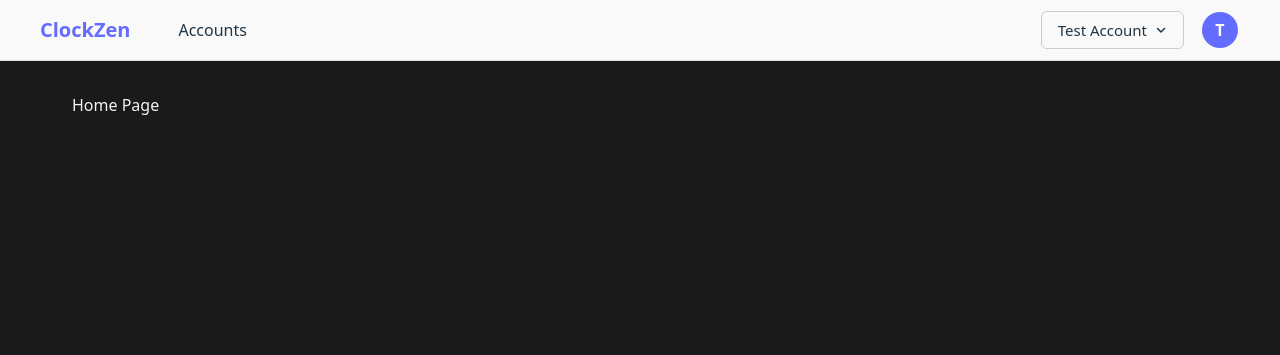
Scenario: Layout › User Menu › opens user menu on click
Click the button with class "user-menu-trigger" at (1220, 30), box [1200,10,1240,50]
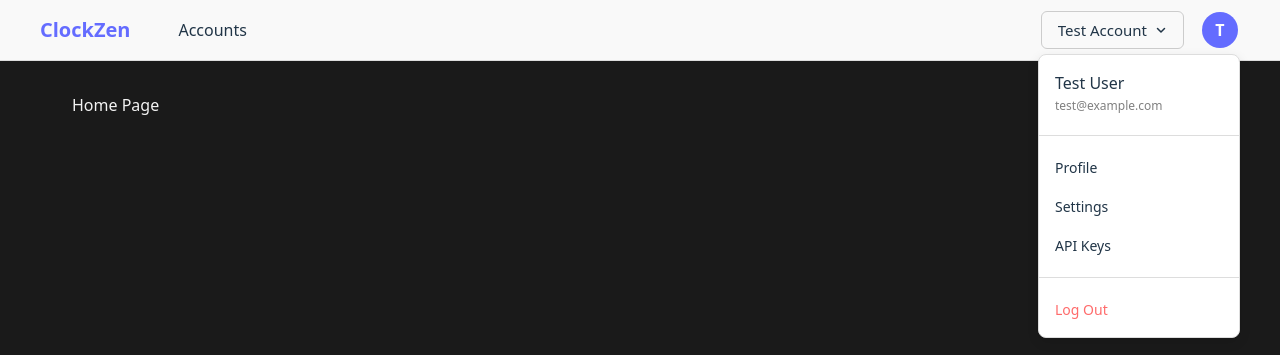
Result: the text "Test User" is shown at [1055,72,1124,94]
Result: the text "test@example.com" is shown at [1055,97,1162,114]
